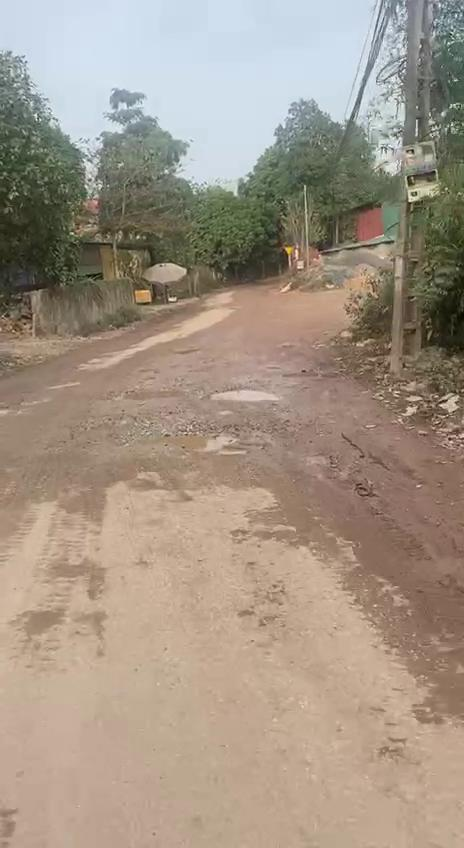pothole: (126, 422, 248, 458), (114, 382, 186, 406), (205, 384, 281, 405)
